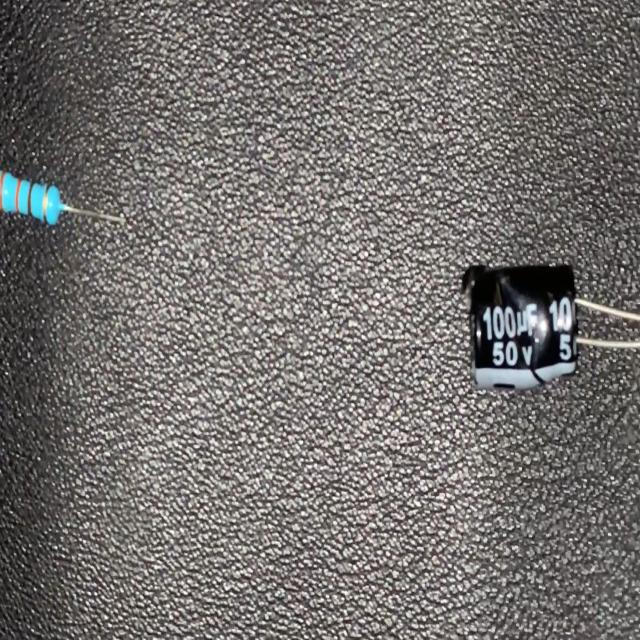capacitor: (458, 257, 640, 396)
cracked: (500, 276, 546, 380), (462, 261, 497, 326)
resistor: (0, 163, 128, 236)
